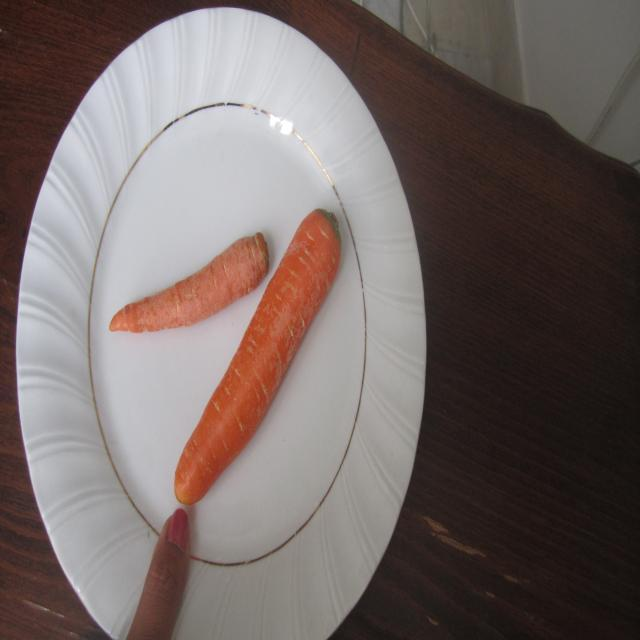Carrot: (174, 201, 350, 517), (97, 234, 280, 334)
Finger: (131, 506, 207, 640)
